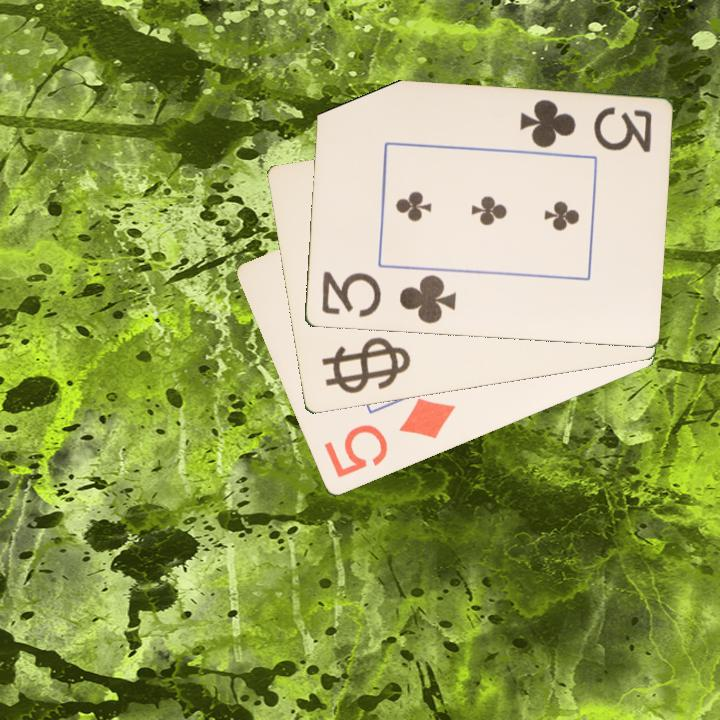3c: (516, 96, 655, 156), (318, 268, 459, 327)
5d: (320, 395, 459, 481)
JK: (334, 349, 407, 392)
